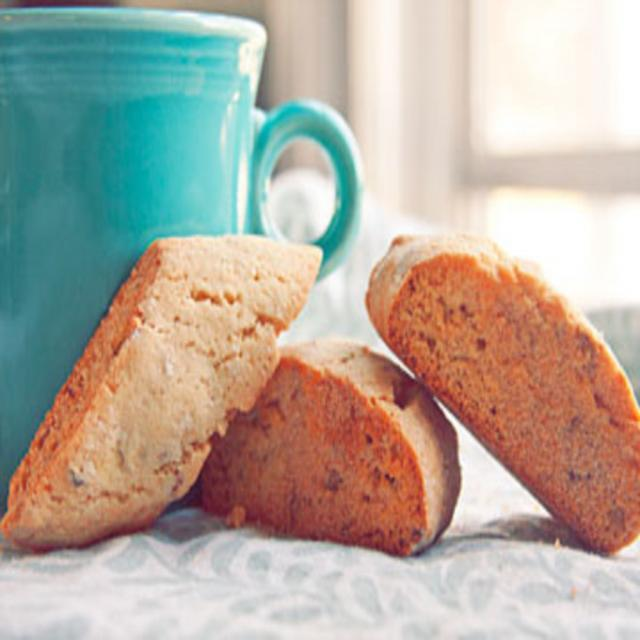Cookie: (0, 240, 322, 555), (364, 224, 638, 558), (196, 336, 461, 554)
